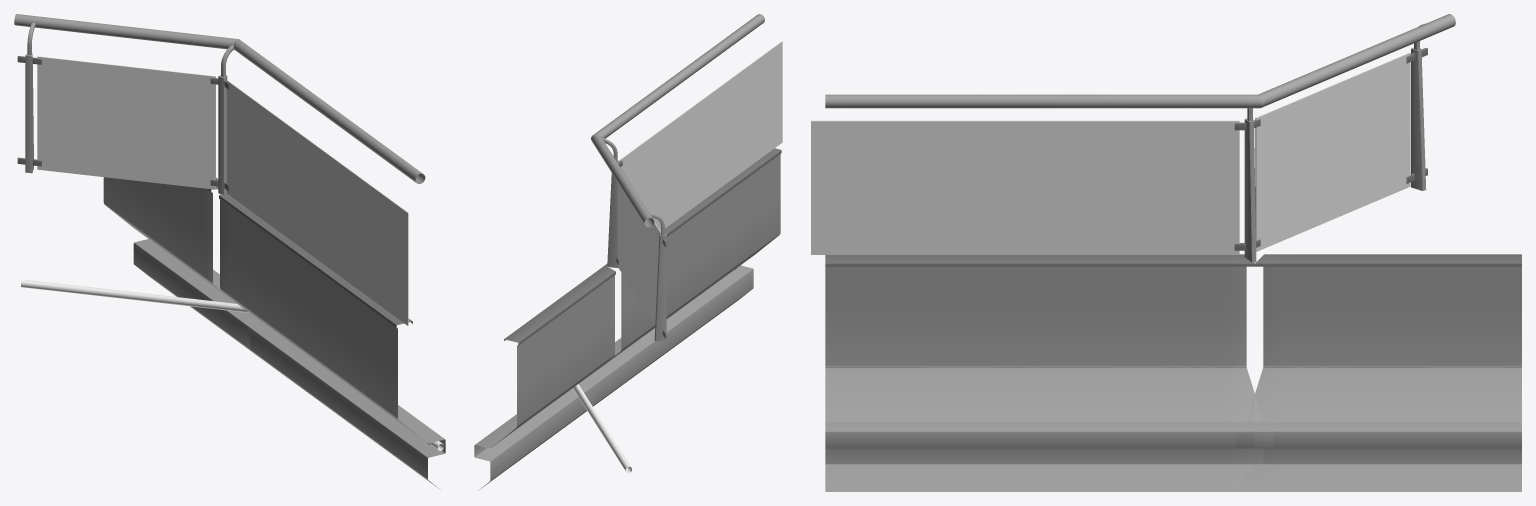
The model's file is SM_BalconyRightBottom.fbx.
3 renders of one model, left to right at view 1: azimuth 30°, elevation 25°; view 2: azimuth 150°, elevation 25°; view 3: azimuth 270°, elevation 25°, orthographic. The views are drawn at different scales.
Visible parts, largest first — view 1: Glass_RightBottom, Balcony_RightBottom (×2), Railing_RightBottom, RailingSupport_RightBottom, EnergyTube_RightBottom; view 2: Balcony_RightBottom (×2), Glass_RightBottom, Railing_RightBottom, RailingSupport_RightBottom, EnergyTube_RightBottom; view 3: Balcony_RightBottom (×2), Glass_RightBottom, Railing_RightBottom, RailingSupport_RightBottom.
Part boxes in pixels (left/top/right/bottom): Glass_RightBottom: left=37, top=56, right=408, bottom=325; Balcony_RightBottom (×2): left=103, top=177, right=445, bottom=489; Railing_RightBottom: left=14, top=14, right=425, bottom=183; RailingSupport_RightBottom: left=17, top=22, right=234, bottom=194; EnergyTube_RightBottom: left=21, top=279, right=444, bottom=450; Balcony_RightBottom (×2): left=474, top=148, right=781, bottom=490; Glass_RightBottom: left=617, top=41, right=782, bottom=324; Railing_RightBottom: left=591, top=14, right=764, bottom=227; RailingSupport_RightBottom: left=602, top=138, right=666, bottom=341; EnergyTube_RightBottom: left=573, top=384, right=631, bottom=472; Balcony_RightBottom (×2): left=825, top=254, right=1521, bottom=491; Glass_RightBottom: left=811, top=52, right=1410, bottom=254; Railing_RightBottom: left=825, top=14, right=1455, bottom=108; RailingSupport_RightBottom: left=1234, top=23, right=1427, bottom=262.
Size of the model in its own units: 166 by 295 by 496.
